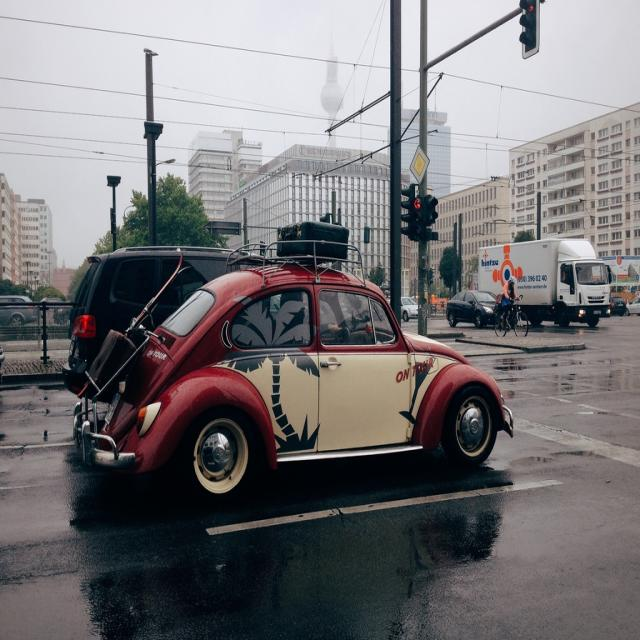car: (73, 237, 513, 509)
